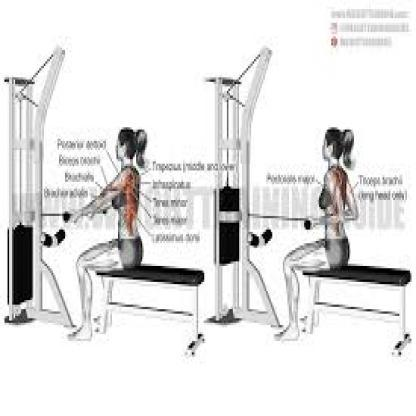Seated Cable Rows: (1, 43, 209, 372), (206, 41, 416, 363)
